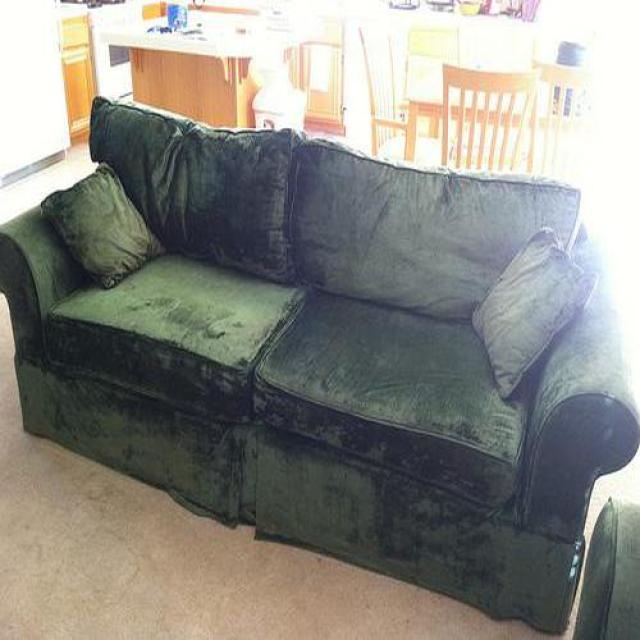sofa: (0, 97, 640, 635)
